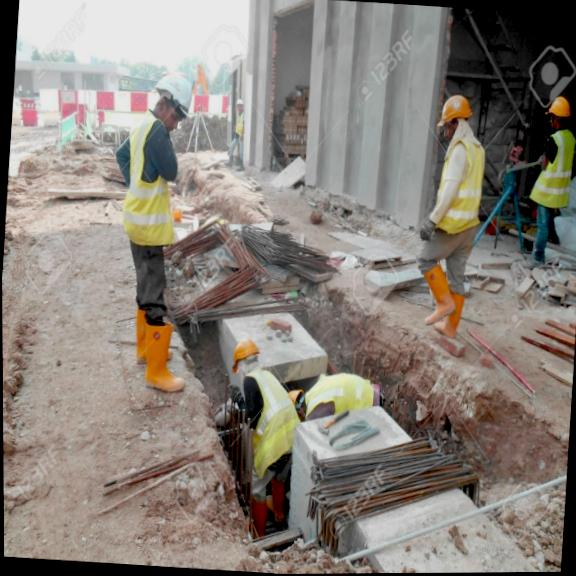safety_vest: (121, 117, 189, 259), (244, 361, 302, 473), (434, 138, 486, 240), (529, 125, 576, 216)
